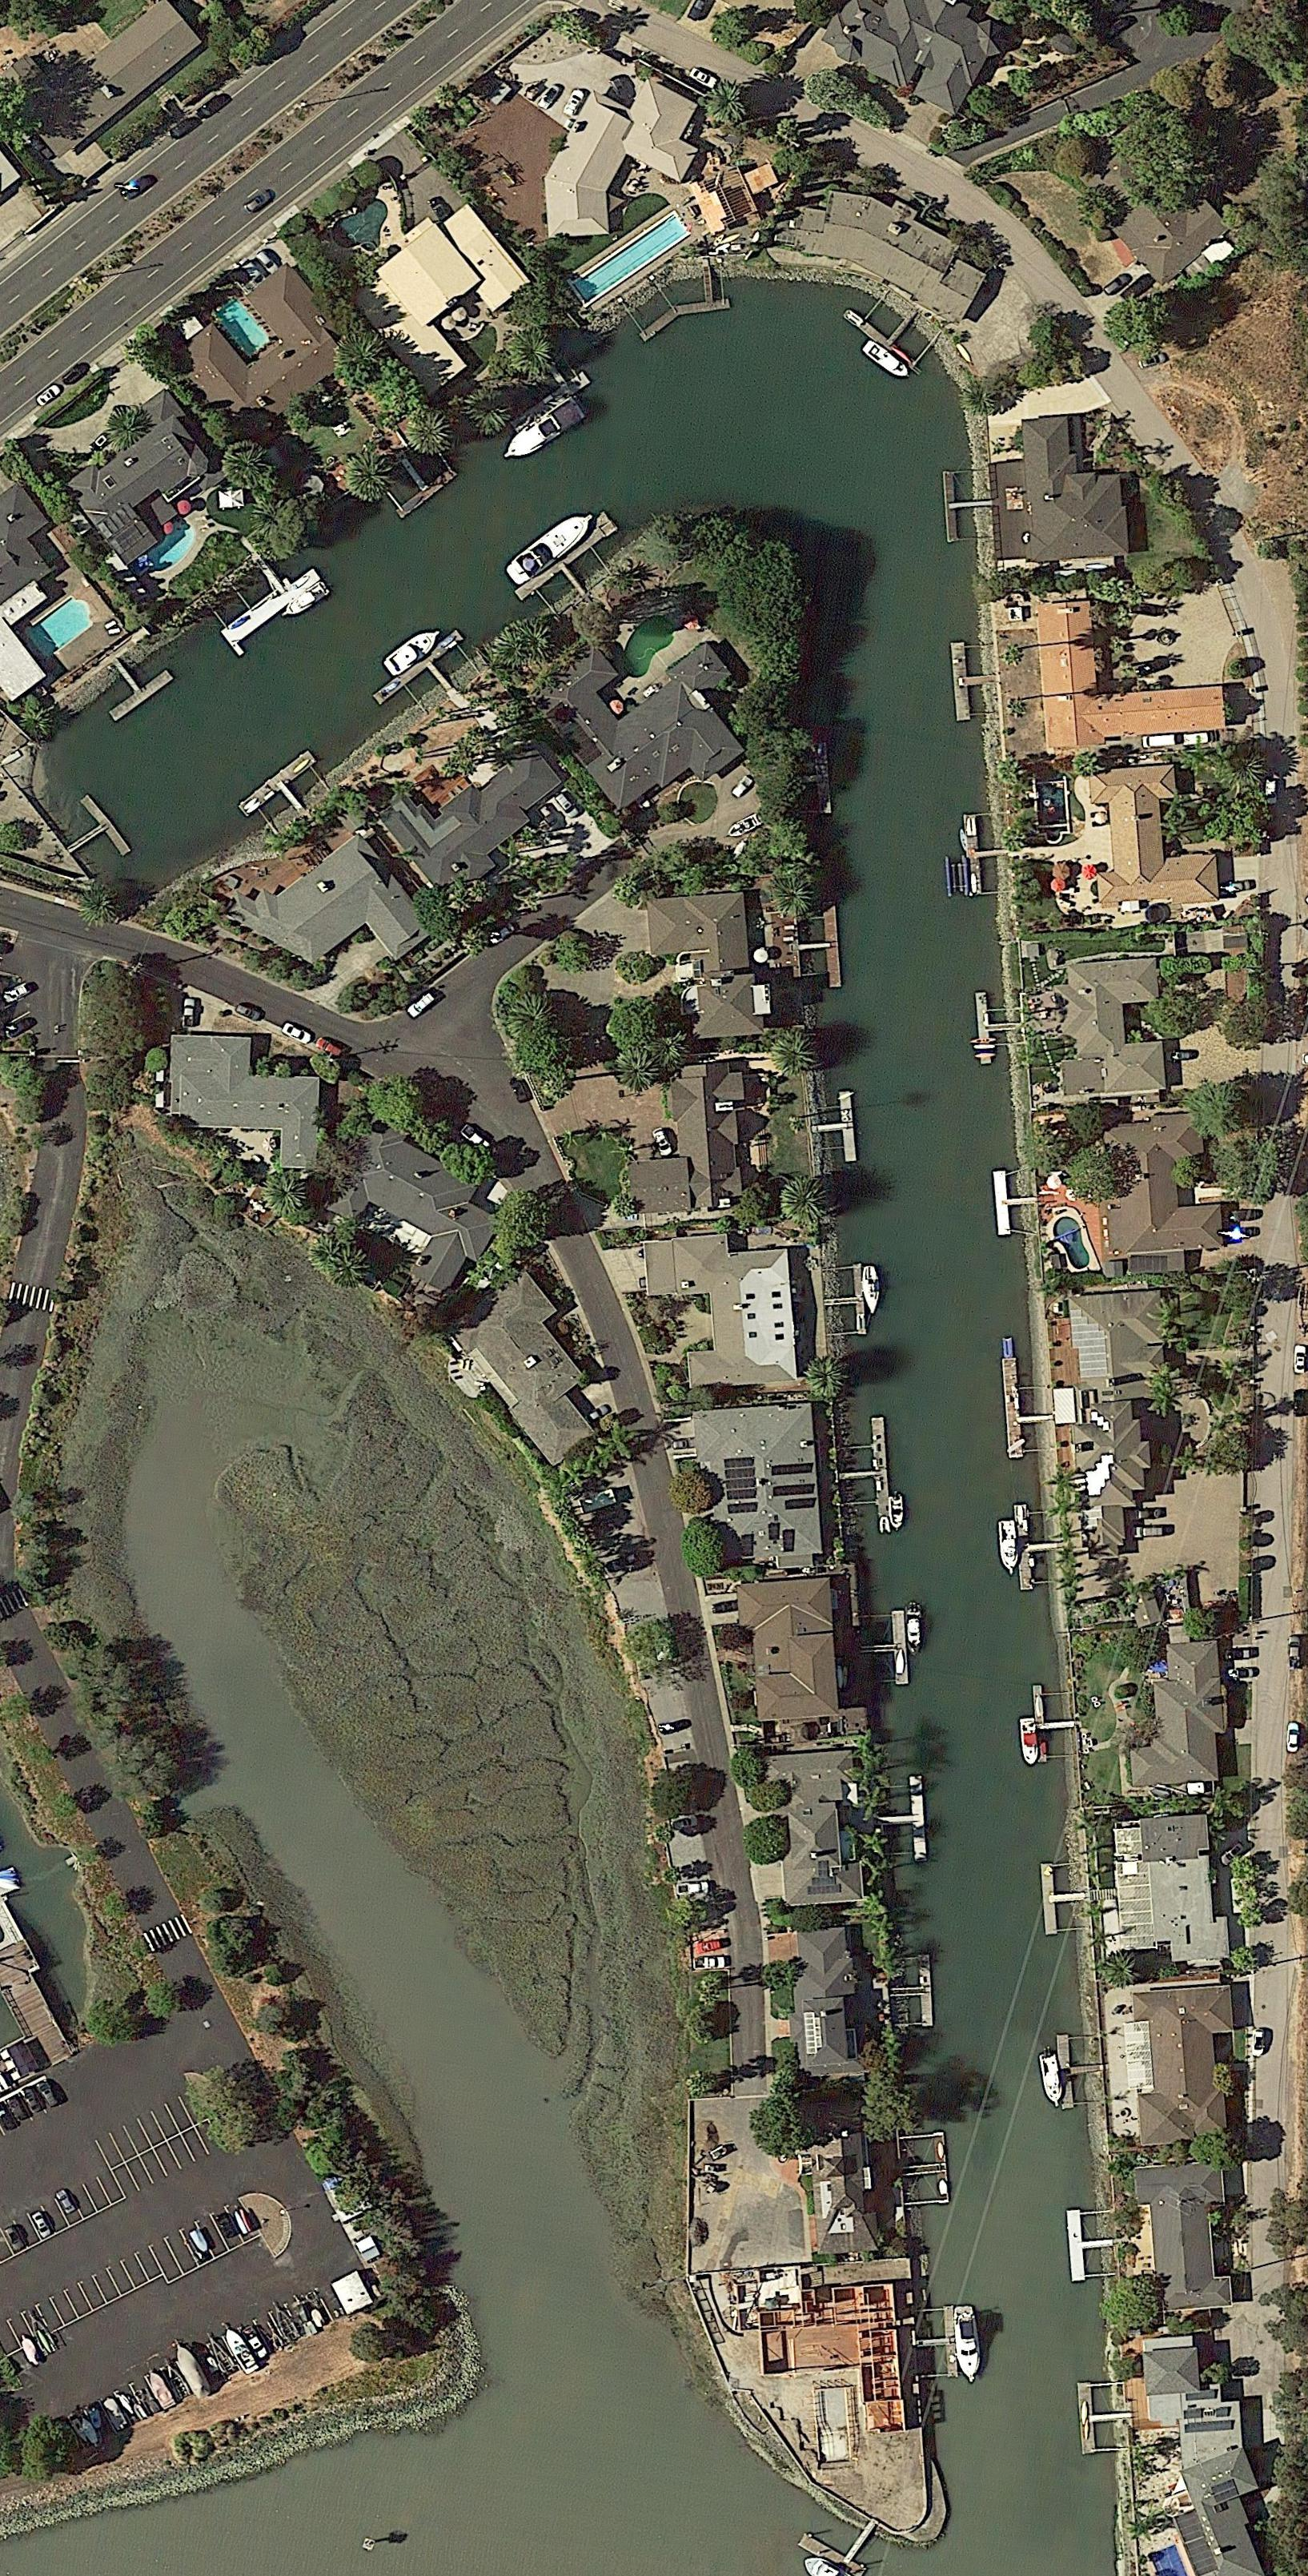harbor: (514, 519, 634, 624), (372, 627, 487, 734), (207, 546, 322, 649), (237, 749, 335, 844), (844, 285, 944, 377), (497, 350, 594, 435), (87, 636, 175, 724), (50, 792, 132, 881), (833, 1415, 891, 1523), (380, 445, 460, 521), (1003, 1353, 1058, 1458), (963, 811, 1016, 898), (614, 275, 682, 342), (794, 901, 843, 991), (876, 1777, 928, 1860), (974, 993, 1029, 1064), (1058, 2032, 1108, 2109), (1078, 2382, 1131, 2454), (944, 469, 996, 542), (951, 641, 999, 719), (1043, 1862, 1093, 1937), (899, 2132, 951, 2204), (809, 1091, 859, 1165), (1068, 2211, 1119, 2281), (861, 1612, 911, 1683), (1031, 1682, 1076, 1760), (823, 1263, 868, 1336), (916, 2306, 959, 2377), (993, 1168, 1038, 1236), (674, 262, 731, 315), (893, 1955, 933, 2027), (1018, 1540, 1059, 1588)
ship: (502, 504, 599, 589), (499, 397, 586, 467), (382, 622, 444, 679), (169, 2337, 214, 2402), (859, 339, 914, 387), (279, 579, 332, 624), (953, 2304, 983, 2382), (220, 2322, 259, 2376), (1038, 2052, 1064, 2109), (145, 2367, 177, 2412), (722, 811, 767, 841), (998, 1520, 1021, 1575), (903, 1605, 926, 1658), (100, 2394, 132, 2433), (17, 2332, 47, 2369), (1019, 1718, 1041, 1767), (861, 1266, 881, 1316), (77, 2414, 103, 2449), (187, 2226, 212, 2256), (889, 1497, 906, 1532), (230, 2207, 249, 2236), (240, 2206, 257, 2234), (894, 1647, 906, 1675), (879, 1515, 889, 1533)
